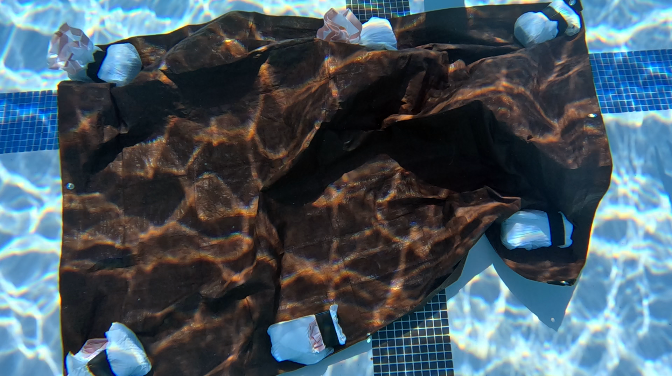sandbag: (45, 0, 612, 373)
